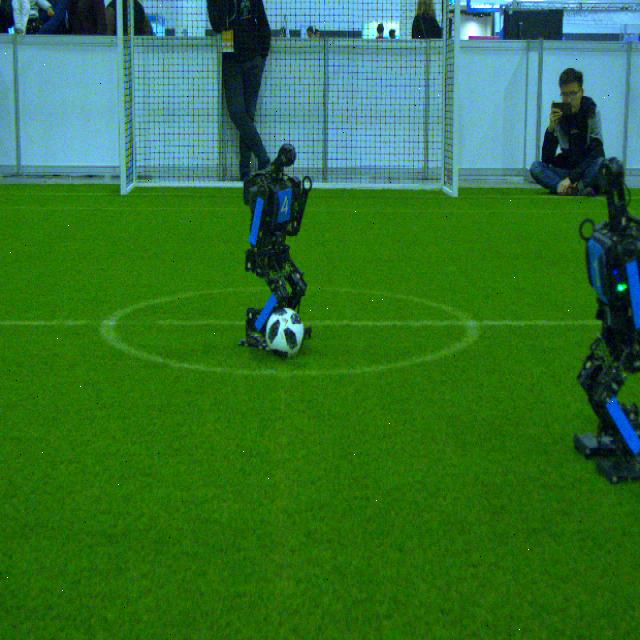ball: (265, 304, 306, 361)
goalpost: (450, 0, 459, 197), (117, 1, 124, 196)
